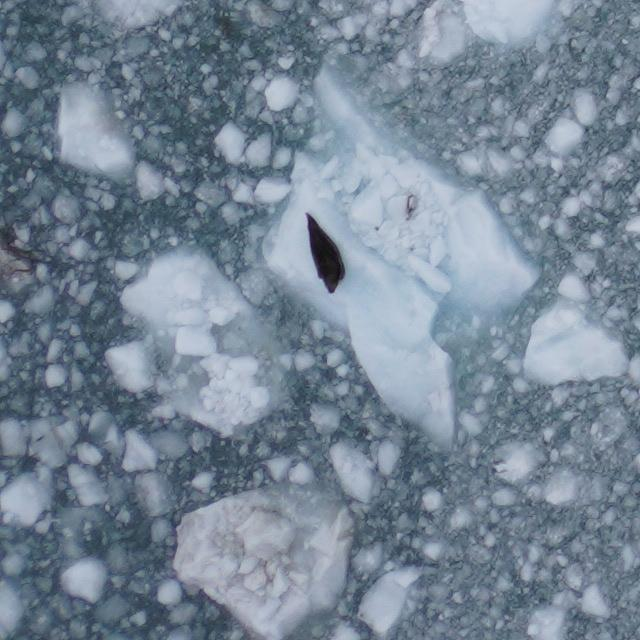seal: (302, 209, 349, 299)
